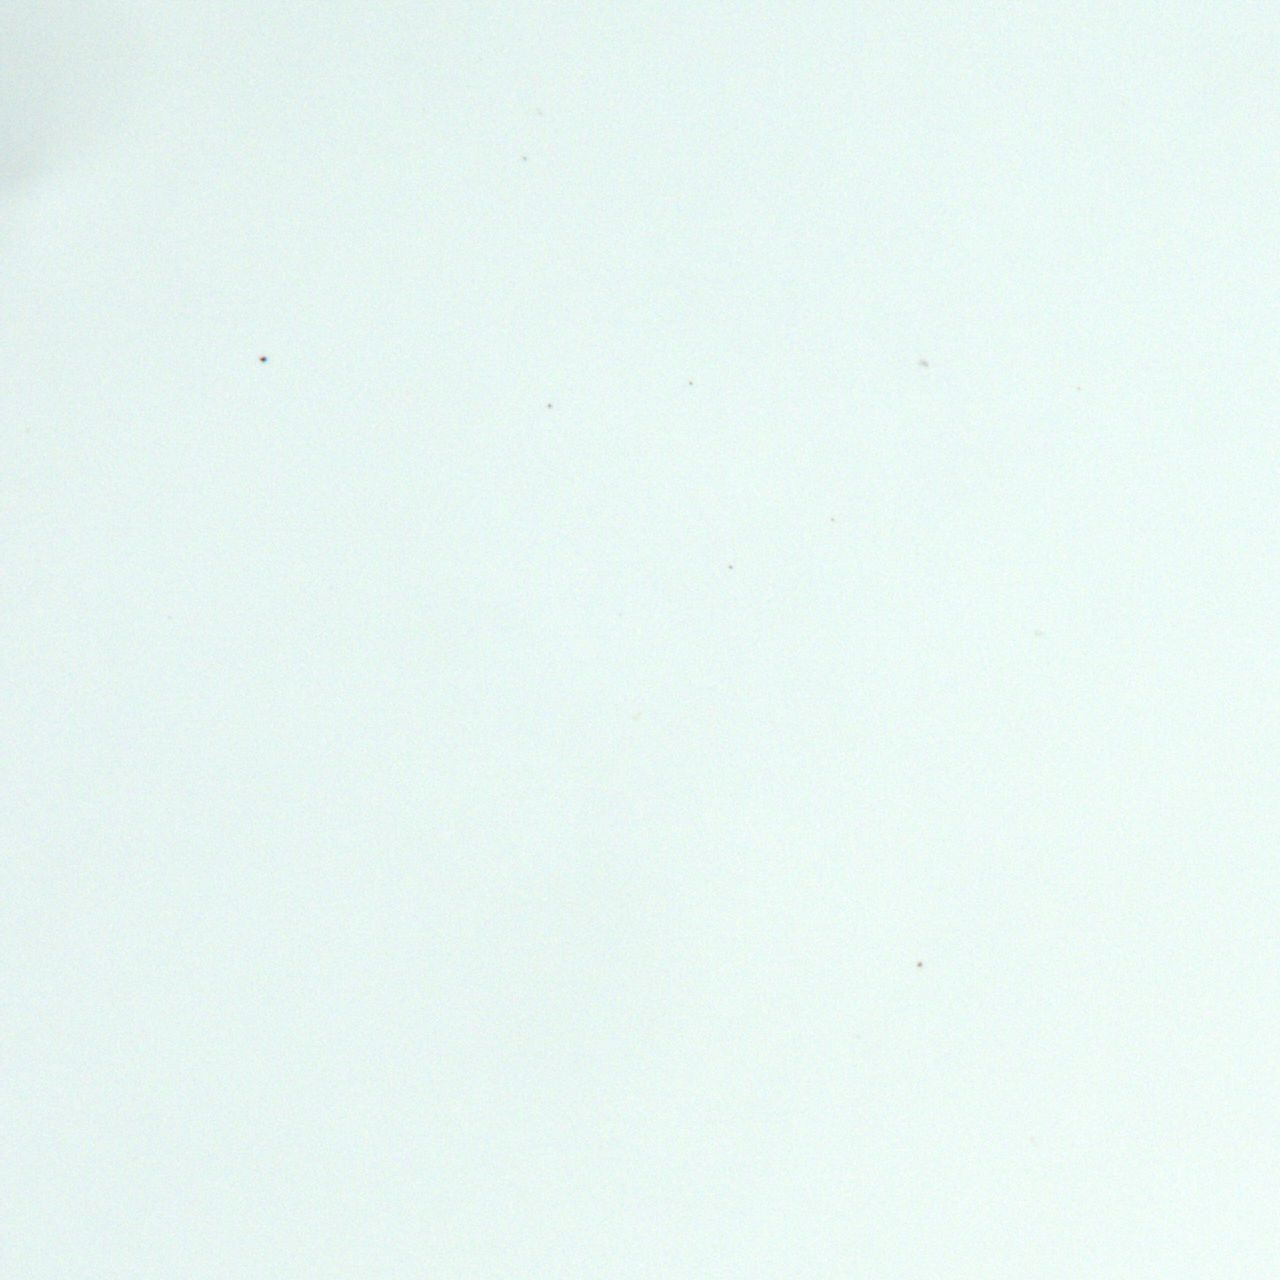dust: (259, 356, 266, 361), (916, 961, 921, 967), (728, 564, 732, 568), (547, 403, 551, 407)
